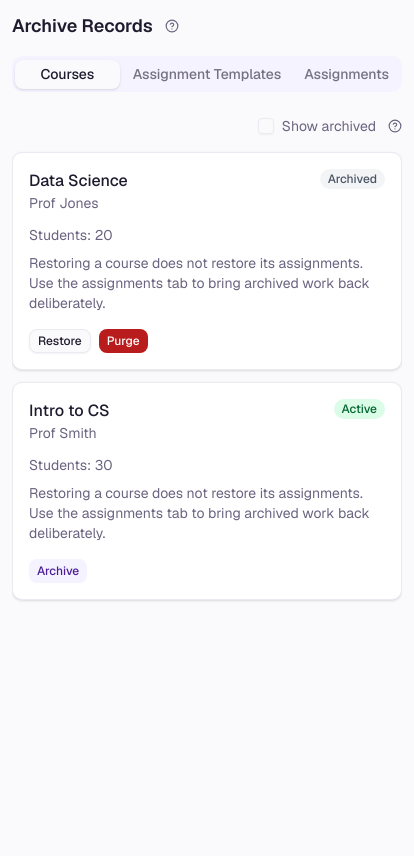
DataArchivesTab › shows assignment templates tab content when clicked
expect the tab "Courses" is shown: met, box [15, 60, 120, 88]
Click the tab "Assignment Templates".
click(207, 74)  # box [124, 60, 290, 88]
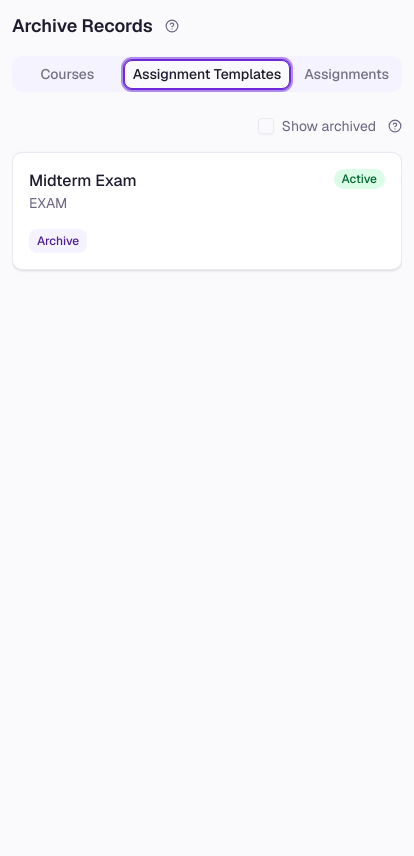
expect the heading "Midterm Exam" is shown: met, box [29, 169, 136, 193]
